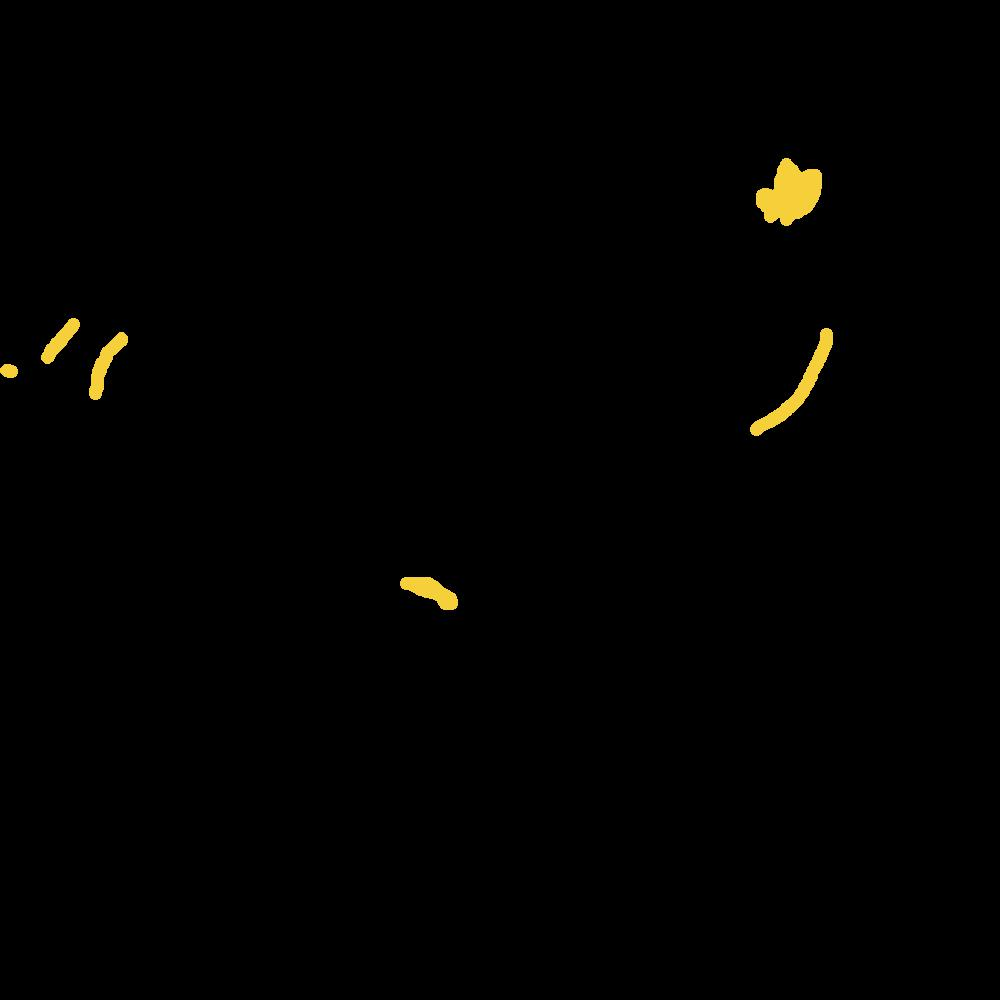legal: (746, 328, 831, 440), (756, 159, 821, 225), (92, 317, 138, 398), (403, 576, 452, 603), (49, 315, 75, 362), (1, 357, 15, 375)
